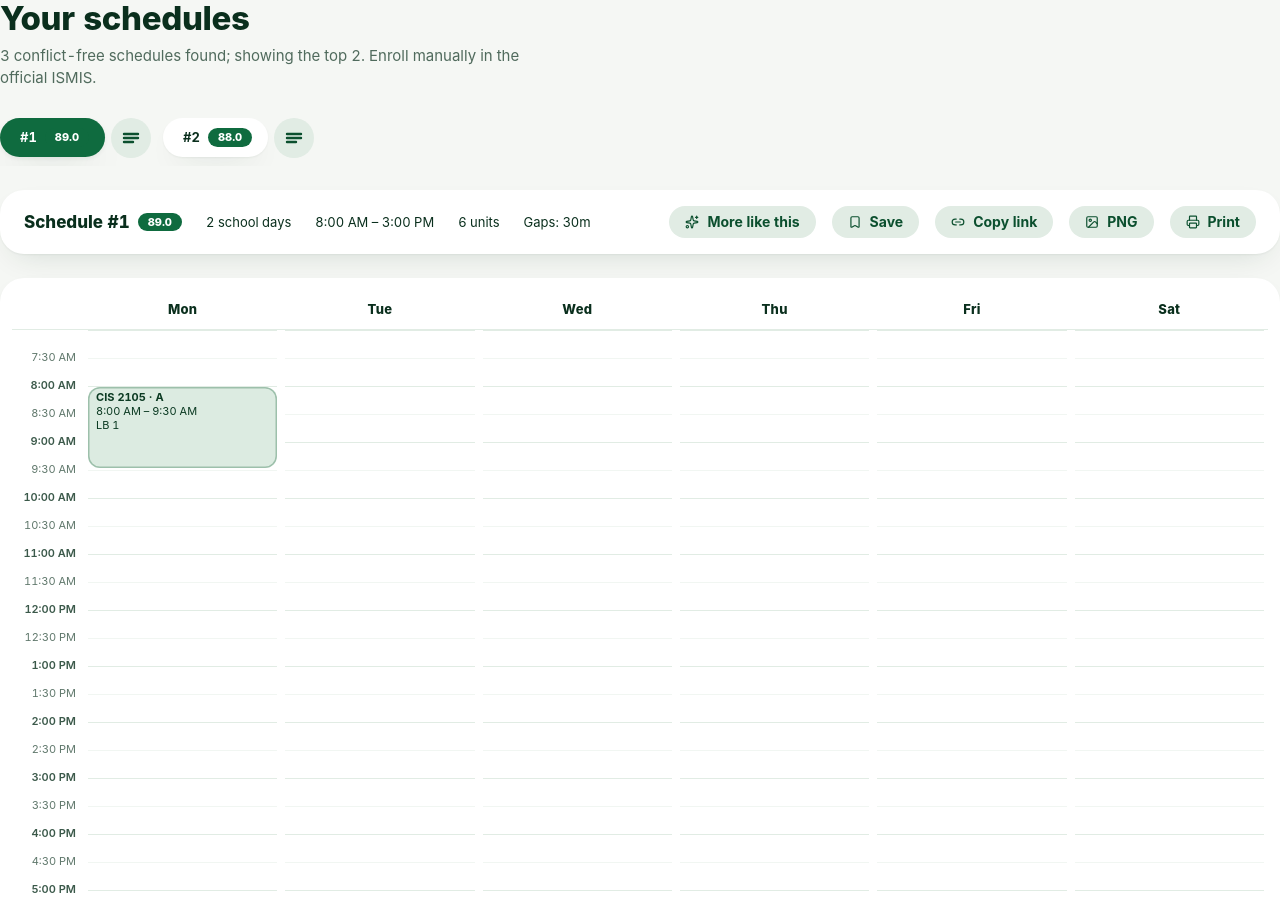
Scenario: SchedulesPage saving and sharing › asks for a name before saving, then shows the schedule as saved
This screenshot has width=1280, height=897.
Click the button "Save" at (875, 222), box [832,206,919,238]
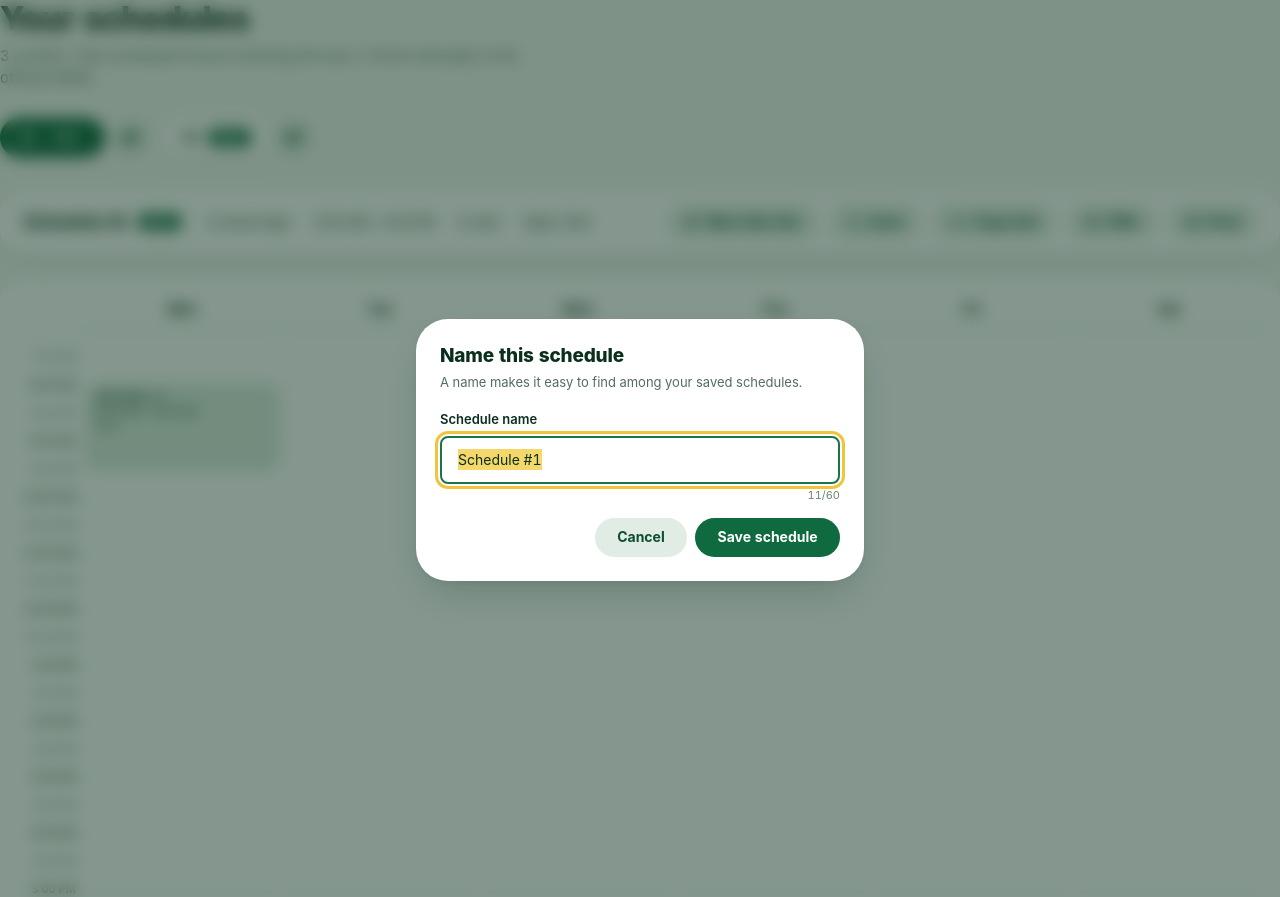
Expected: the field labelled "Schedule name" holds "Schedule #1"
Clear the field labelled "Schedule name" at (640, 460), box [440,436,840,484]
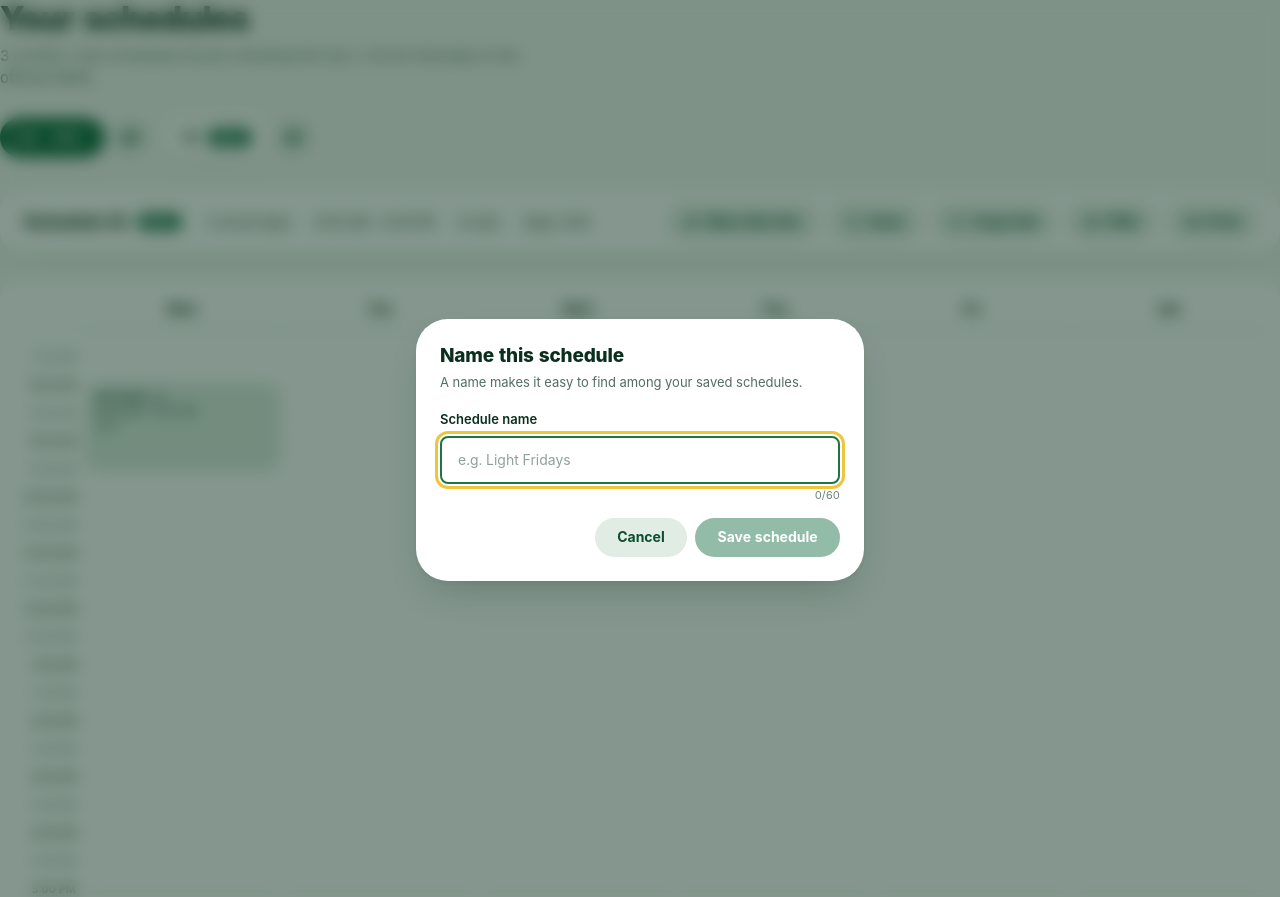
Expected: the button "Save schedule" is disabled, [695,518,840,558]
Type "Light Fridays" into the field labelled "Schedule name" at (640, 460), box [440,436,840,484]
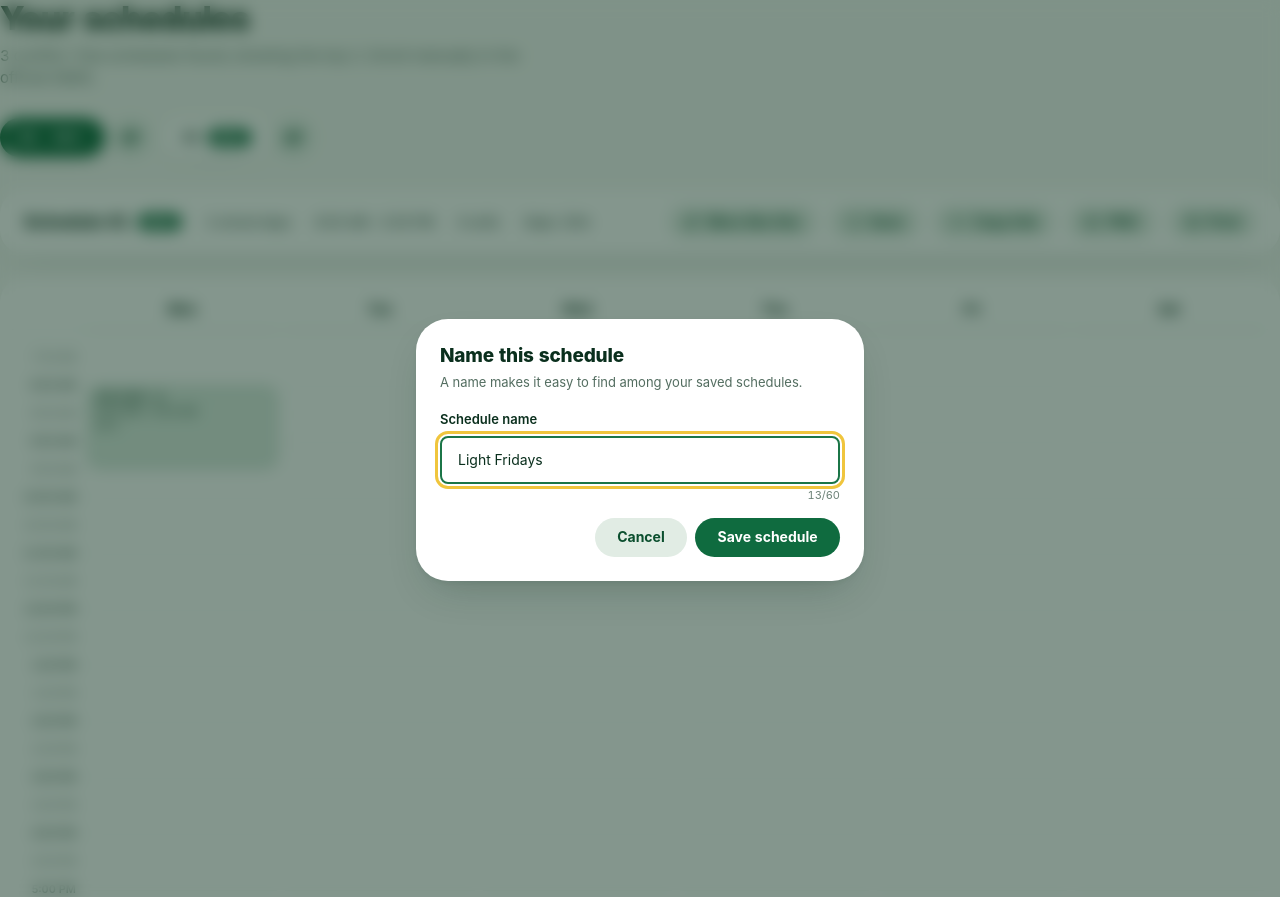
Click the button "Save schedule" at (768, 538), box [695,518,840,558]
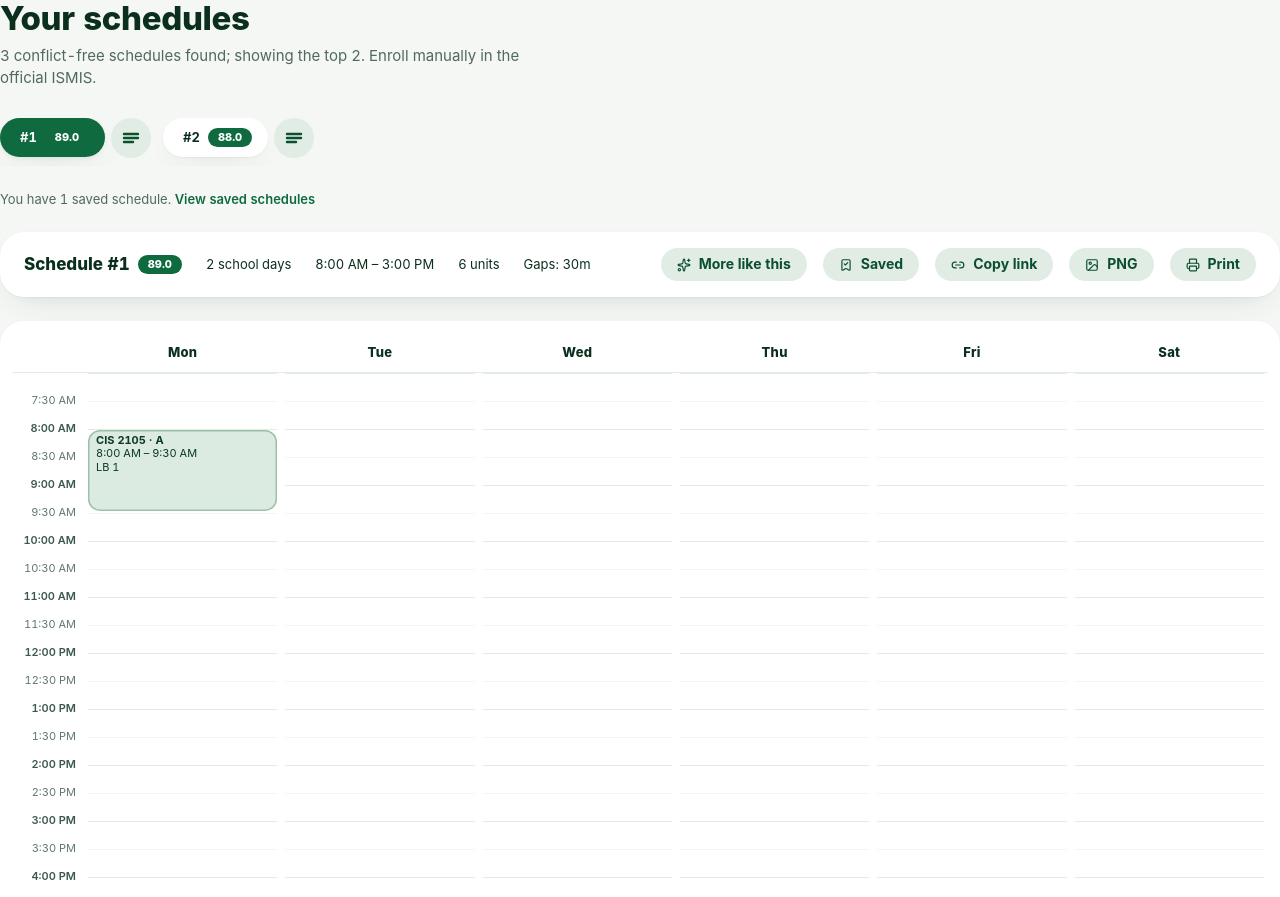
Expected: the heading "Name this schedule" is gone
